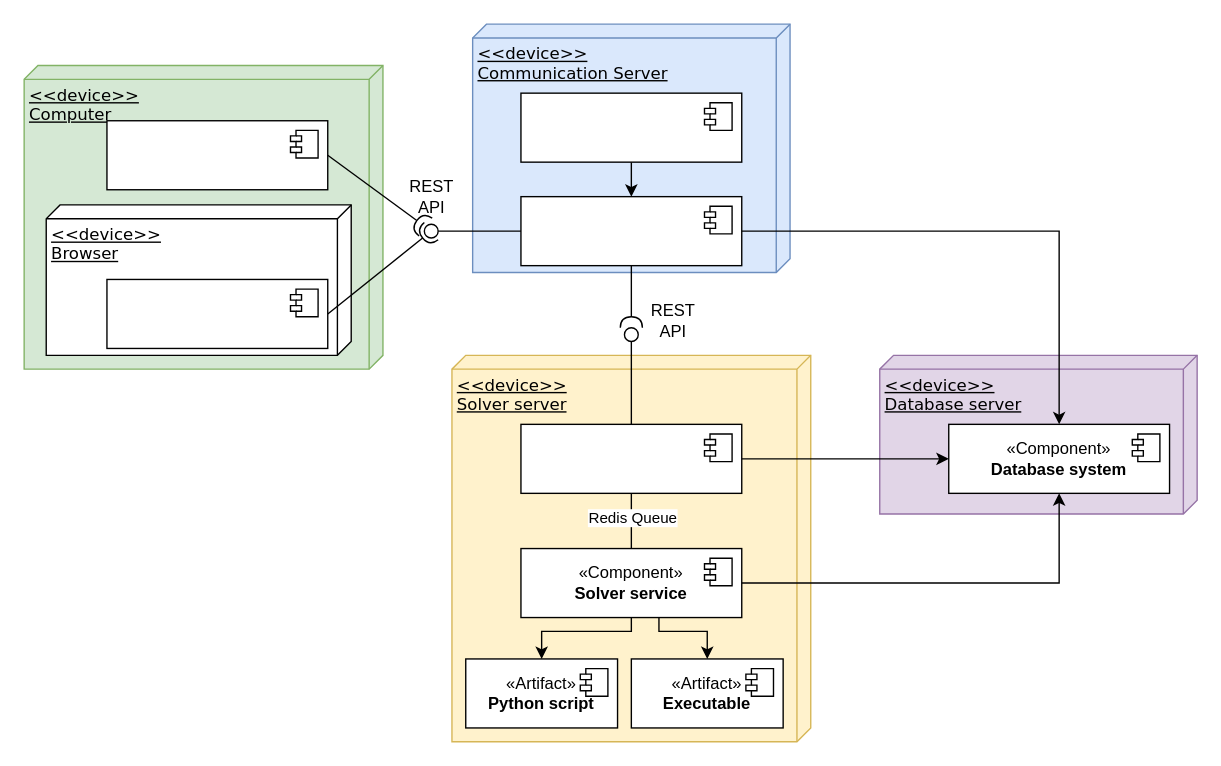
Some shapes in this 1221 by 766 pixel diagram are drawn without their labels. Each missing label, with the centre of its shape:
«Component» Client app: pixel 217 313
«Component» Client app (native app): pixel 217 154
«Component» Communication service: pixel 631 230
«Component» Experiment deployer: pixel 631 458
«Component» User database: pixel 631 127
